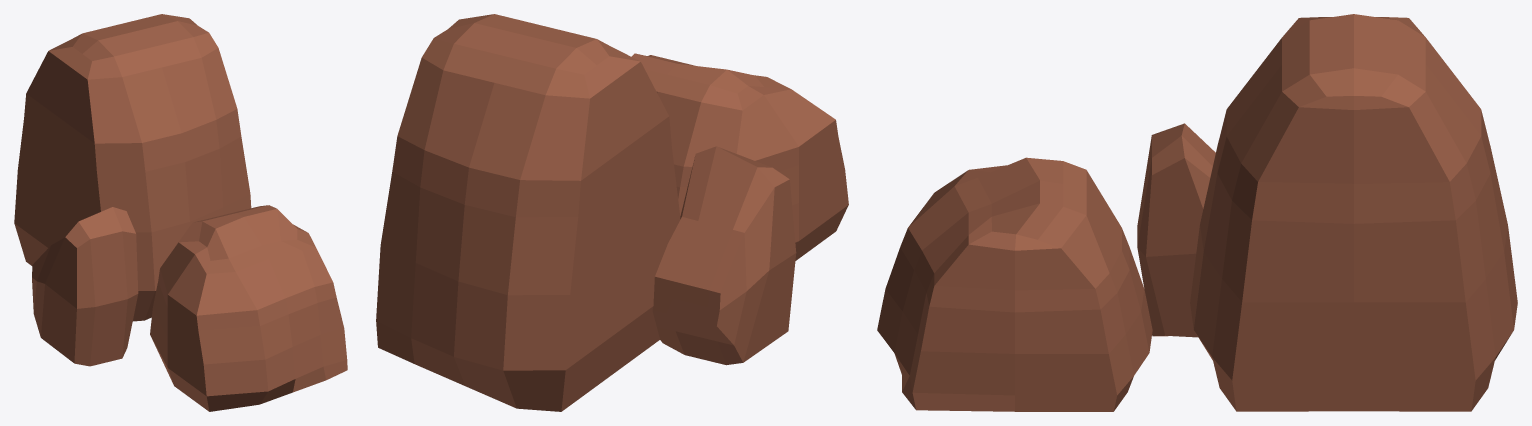
The model's file is rocas 1.fbx.
3 views of the same model, side by side, from view 1: azimuth 30°, elevation 25°; view 2: azimuth 150°, elevation 25°; view 3: azimuth 270°, elevation 25° (orthographic). The views are drawn at different scales.
Parts seen in each view (by area): view 1: roca 1, roca 2, roca 3; view 2: roca 1, roca 3, roca 2; view 3: roca 1, roca 2, roca 3.
Part boxes in pixels (<box>): roca 1: <box>14,14,251,321</box>; roca 2: <box>150,205,347,411</box>; roca 3: <box>32,207,138,366</box>; roca 1: <box>376,14,680,411</box>; roca 3: <box>652,146,796,365</box>; roca 2: <box>631,53,848,260</box>; roca 1: <box>1190,14,1517,411</box>; roca 2: <box>877,157,1152,411</box>; roca 3: <box>1137,123,1215,337</box>.
Bounding box in the file's own units: 239 × 271 × 444.
